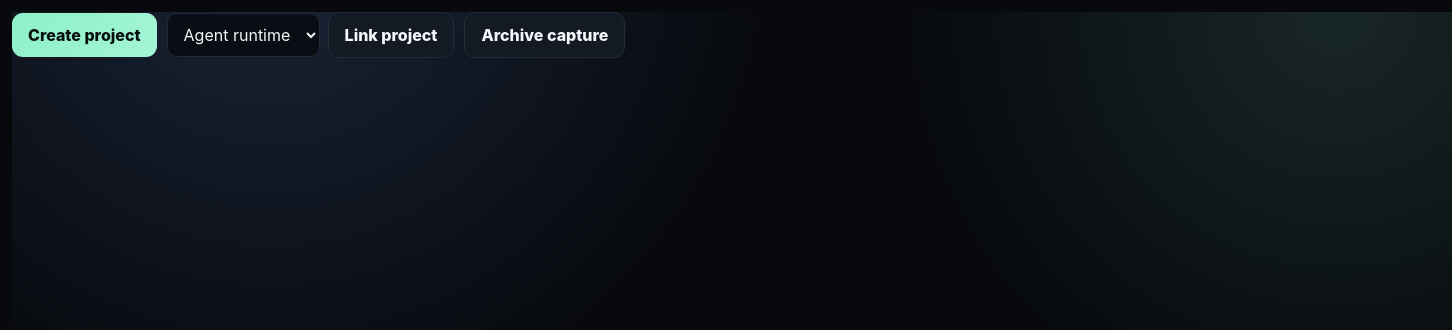
Test case: CaptureReviewActions › links a capture to an existing project
Select "Agent runtime" in the dropdown named "Existing project" at (243, 35), box [167, 13, 320, 57]
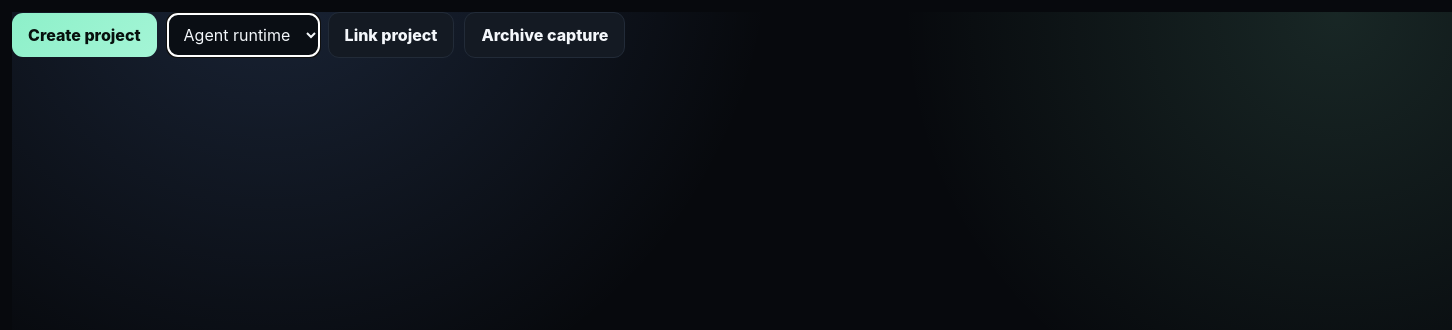
Click the button "Link project" at (391, 35), box [328, 12, 454, 58]
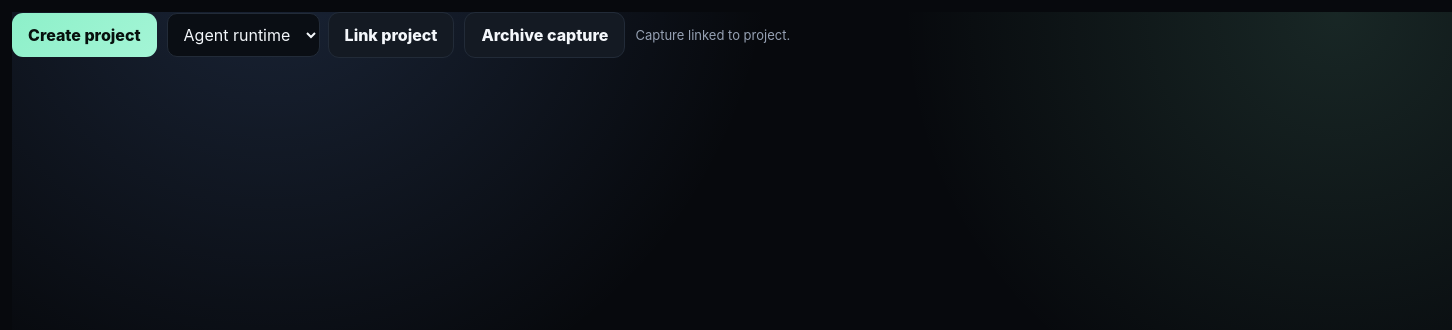
Expected: the text "Capture linked to project." is shown, [635, 27, 790, 43]
